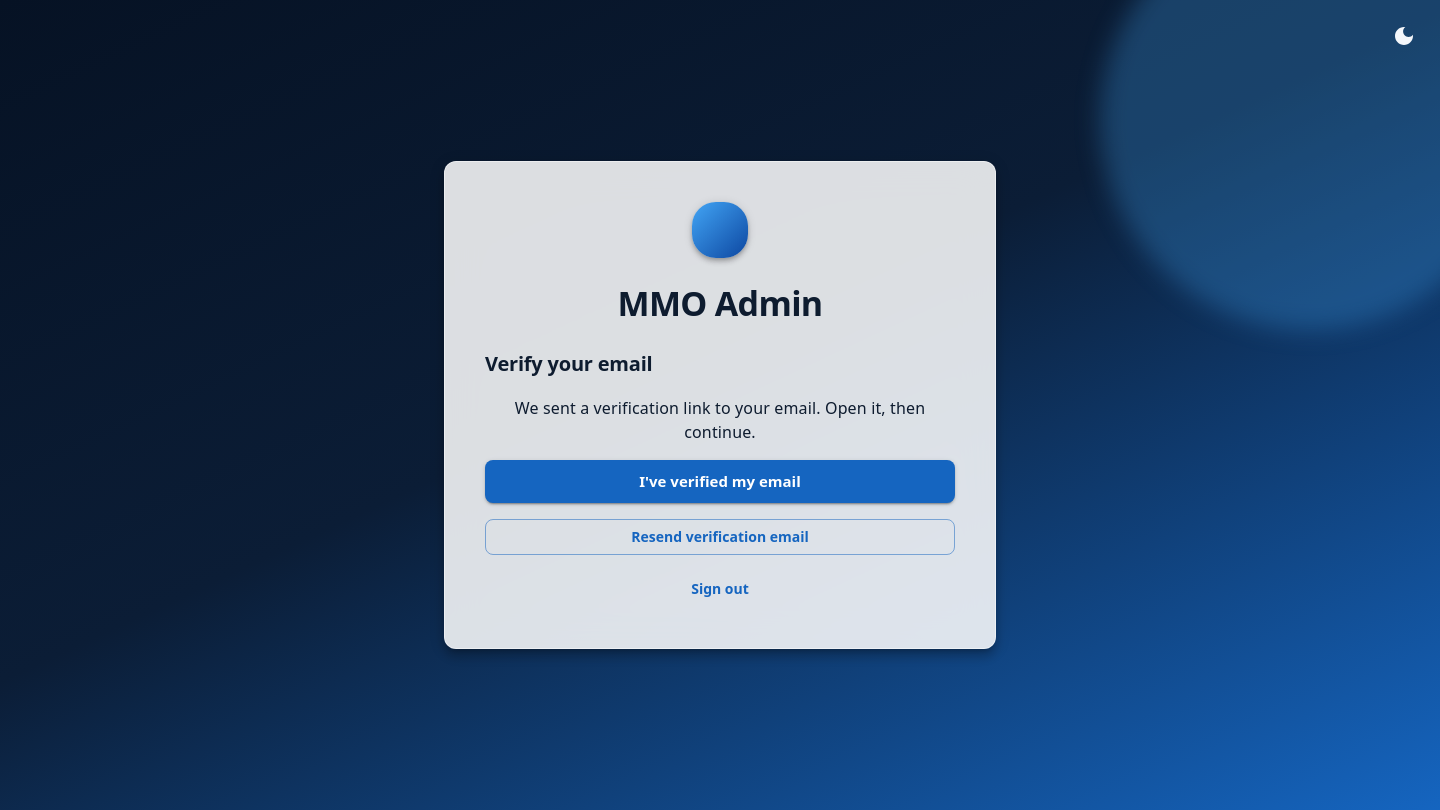
Test: VerifyEmailPage › stays on the verify screen when the email is still unverified
This screenshot has width=1440, height=810.
Click the button "I've verified my email" at (720, 482), box [485,460,955,503]
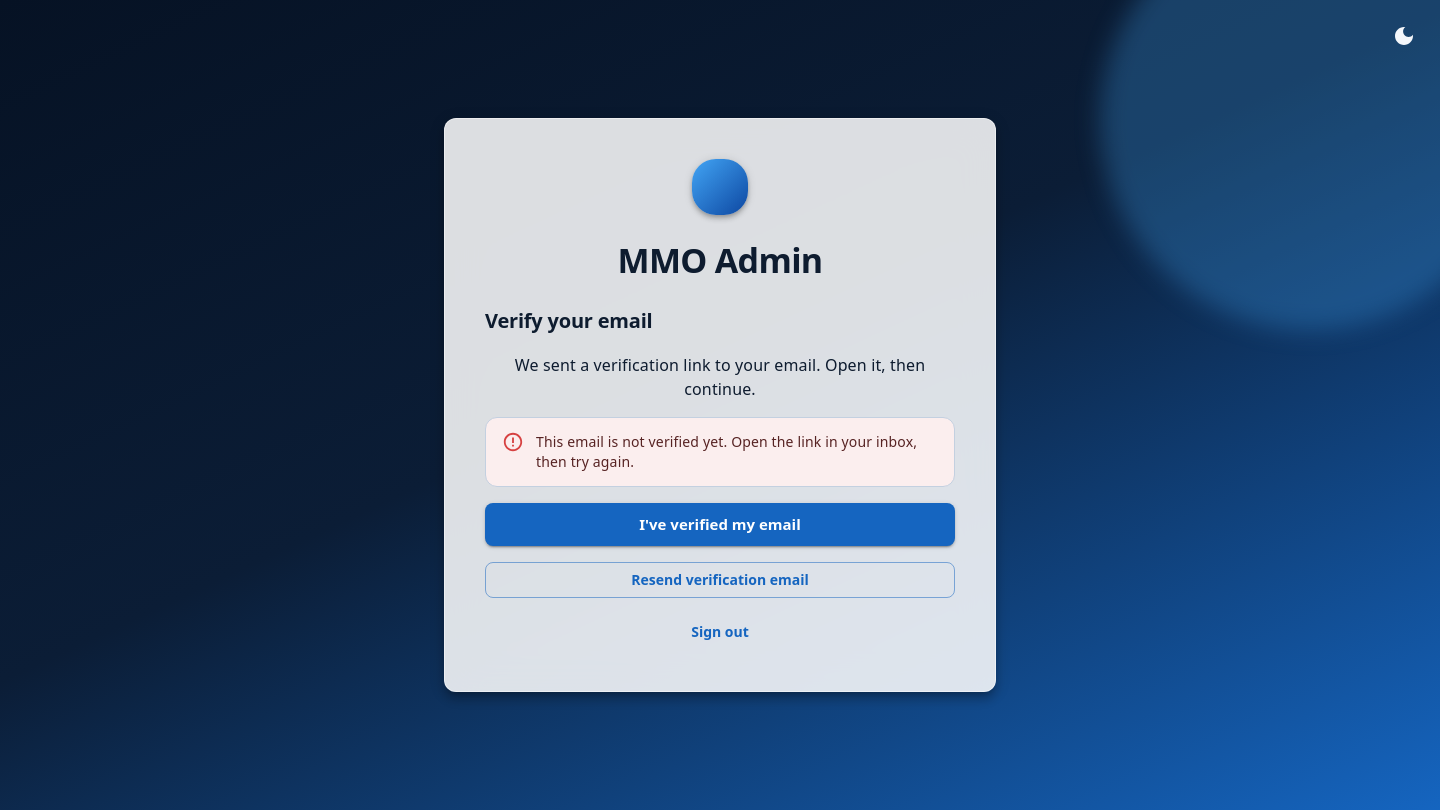
Check: the element with test id "auth-screen-verify-email" is shown, box [485,305,955,651]
Check: the message with test id "auth-error" reads "This email is not verified yet. Open the link in your inbox, then try again.", box [536,432,917,471]
